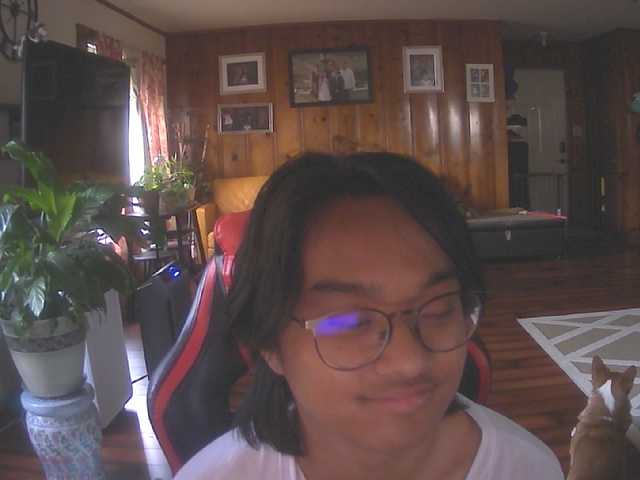happy: (253, 166, 489, 452)
